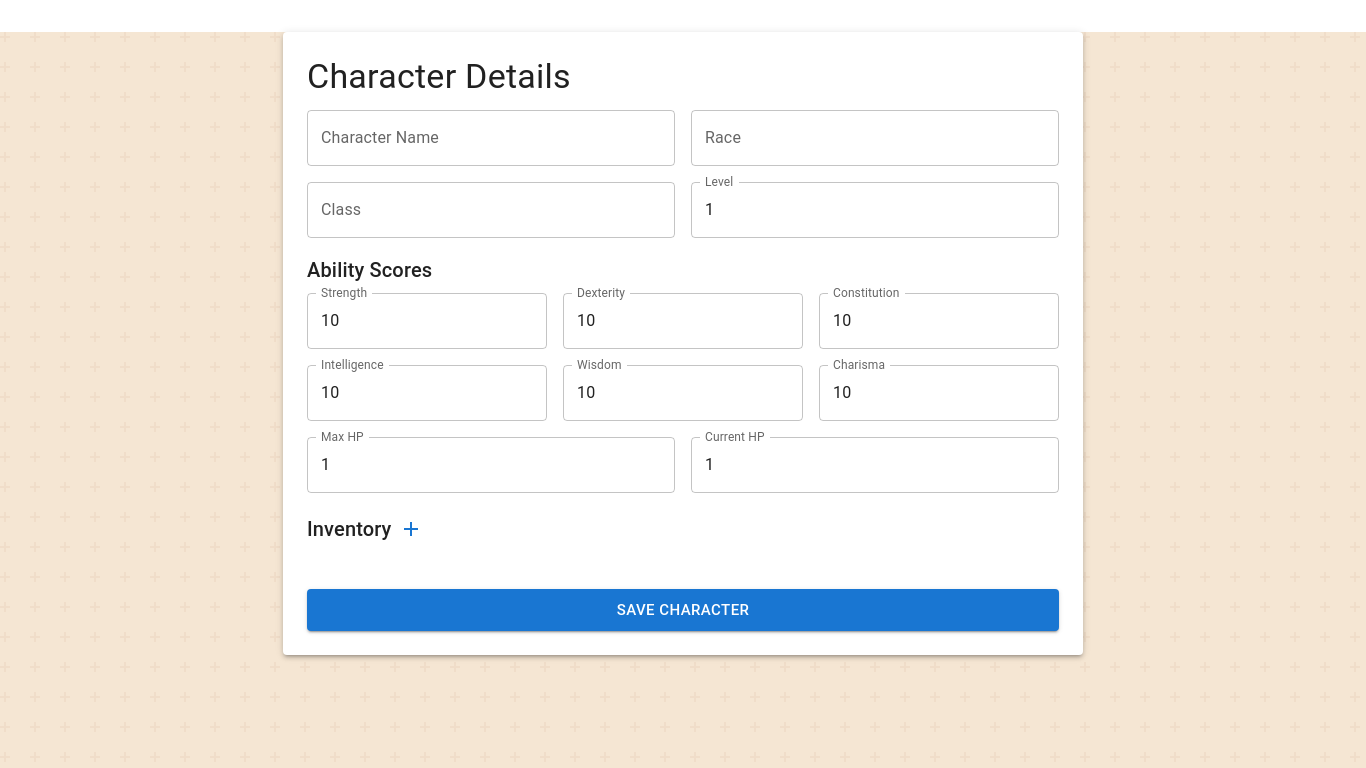
CharacterForm › validates required fields
Try to submit empty form
Click the button "Save Character": (683, 610) [307, 589, 1059, 631]
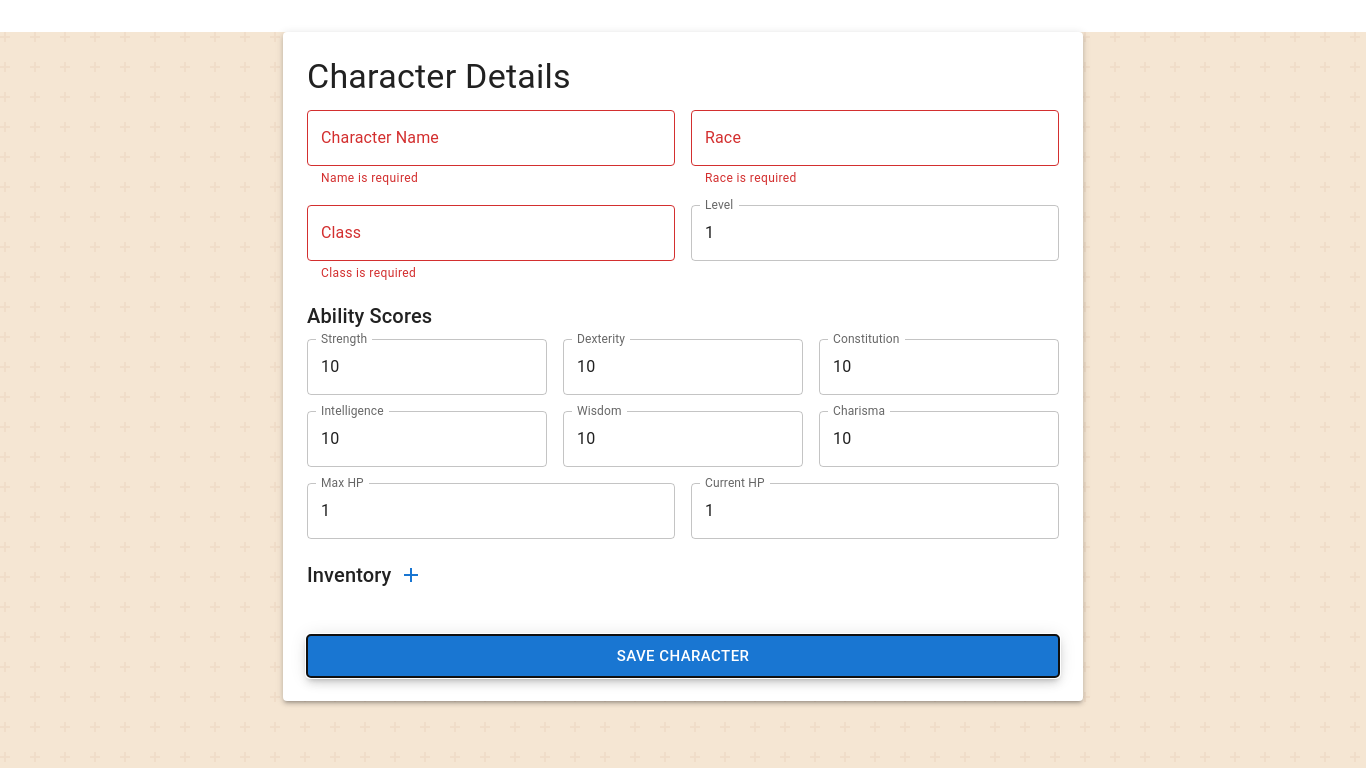
Expected: the text "Name is required" is shown, [321, 171, 418, 185]
Expected: the text "Race is required" is shown, [705, 171, 797, 185]
Expected: the text "Class is required" is shown, [321, 266, 416, 280]
